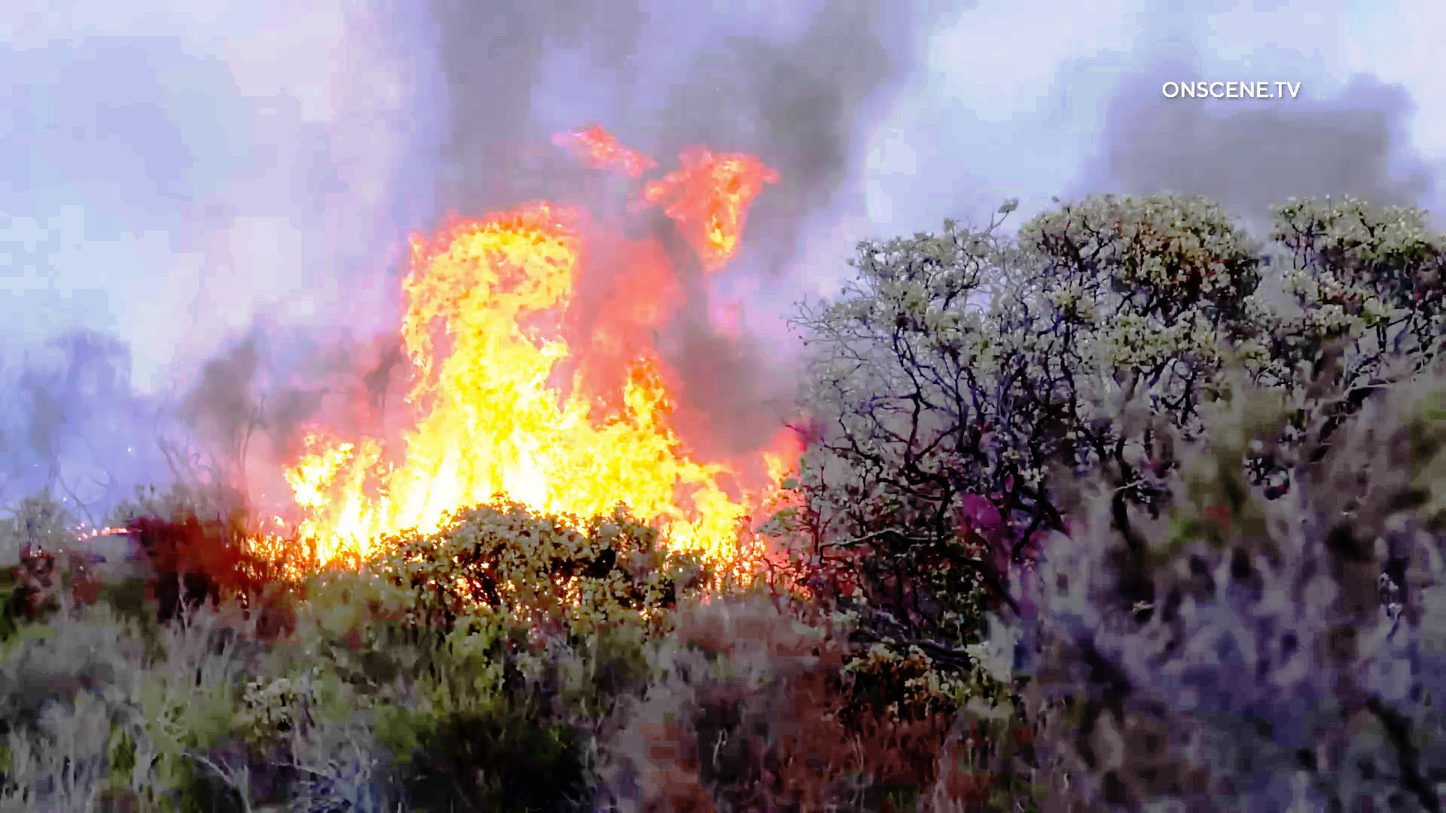fire: (352, 126, 778, 523)
